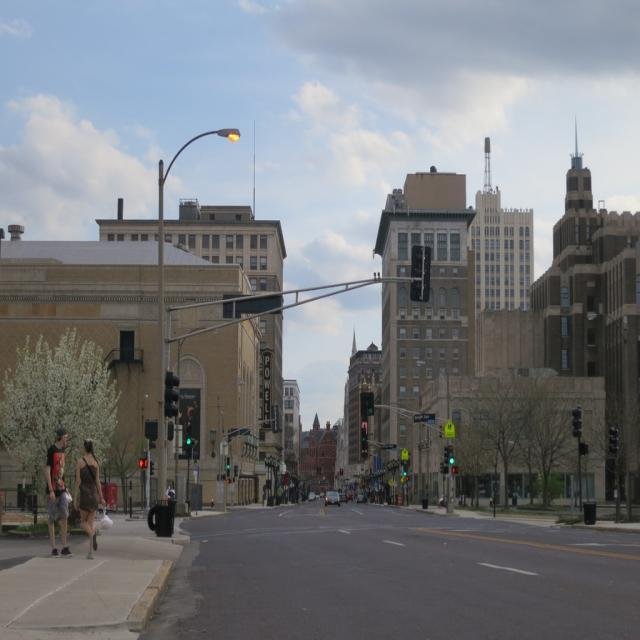off traffic light: (163, 371, 180, 417), (608, 426, 619, 453)
traffic light: (365, 392, 375, 416)
